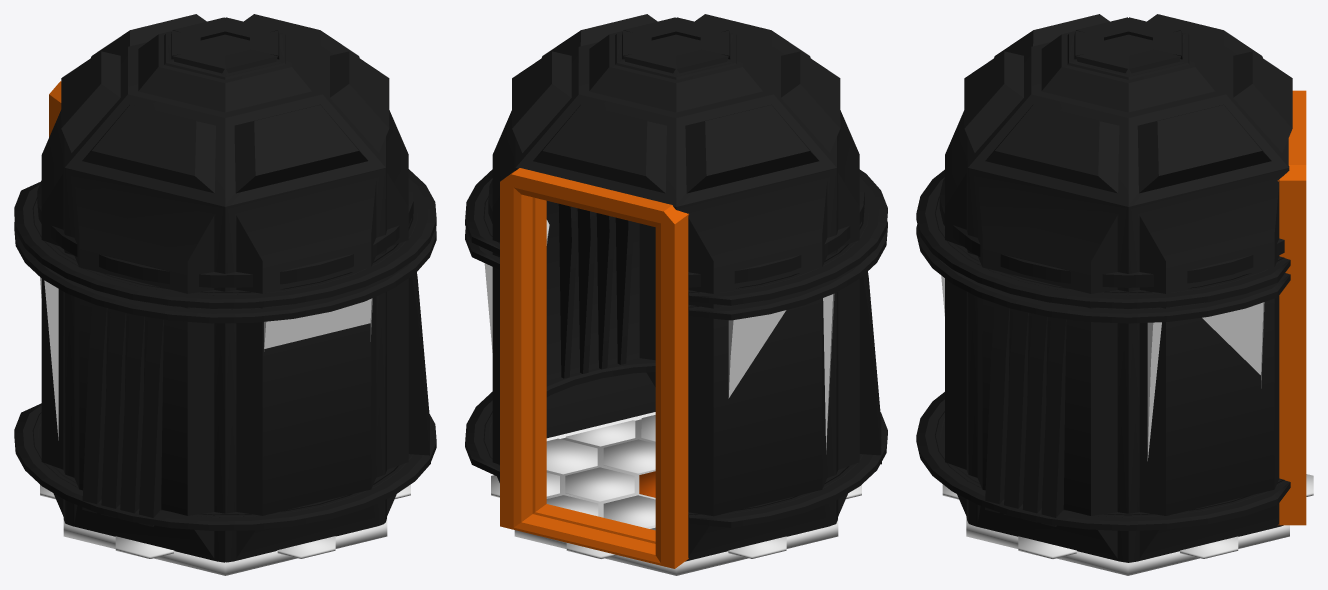
The model's file is room_a_hull.fbx.
3 views of the same model, side by side, from view 1: azimuth 30°, elevation 25°; view 2: azimuth 150°, elevation 25°; view 3: azimuth 270°, elevation 25° (orthographic).
Parts seen in each view (by area): view 1: walls; view 2: walls; view 3: walls.
Part boxes in pixels (<box>): walls: <box>14,14,436,575</box>; walls: <box>465,14,887,575</box>; walls: <box>916,14,1313,575</box>.
Size of the model in its own units: 386 by 457 by 362.
